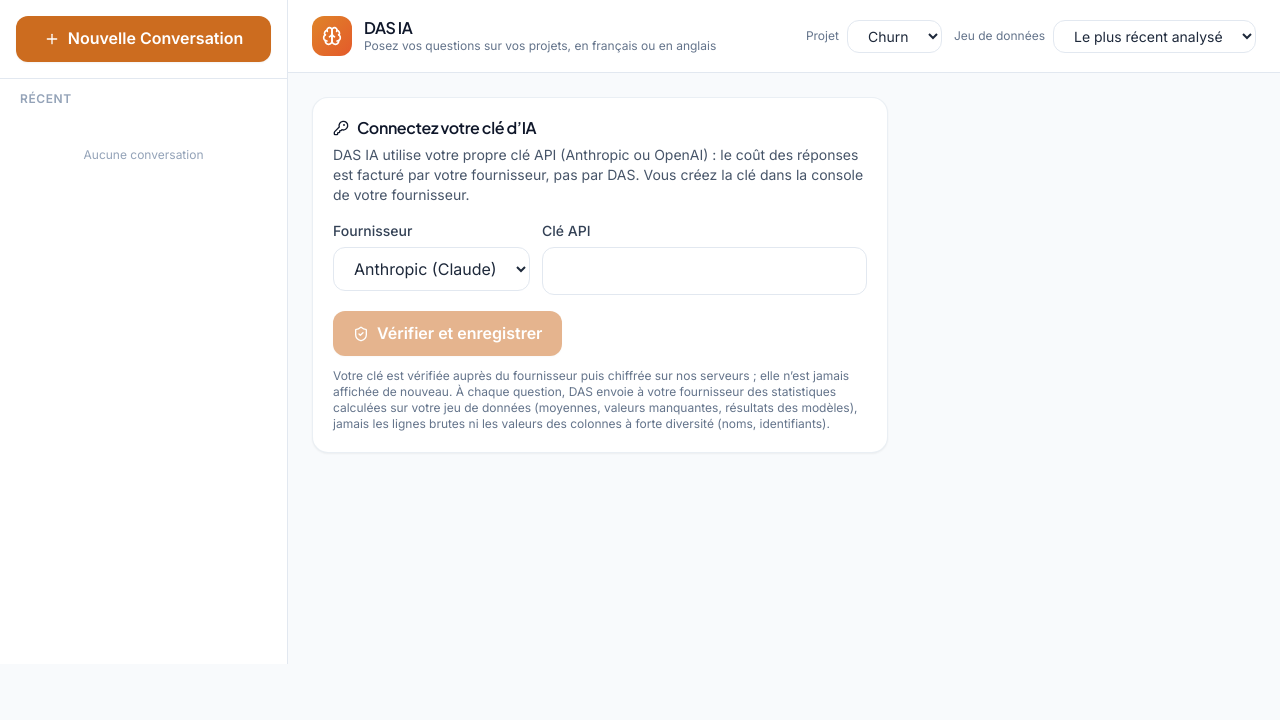
Test: AssistantPage › enregistre la clé saisie puis passe au chat, et efface le champ
Step 1. Type "sk-ant-abcdefghijklmnop-wxyz" into the password field labelled "Clé API" → point(704, 271), box [542,247,867,295]
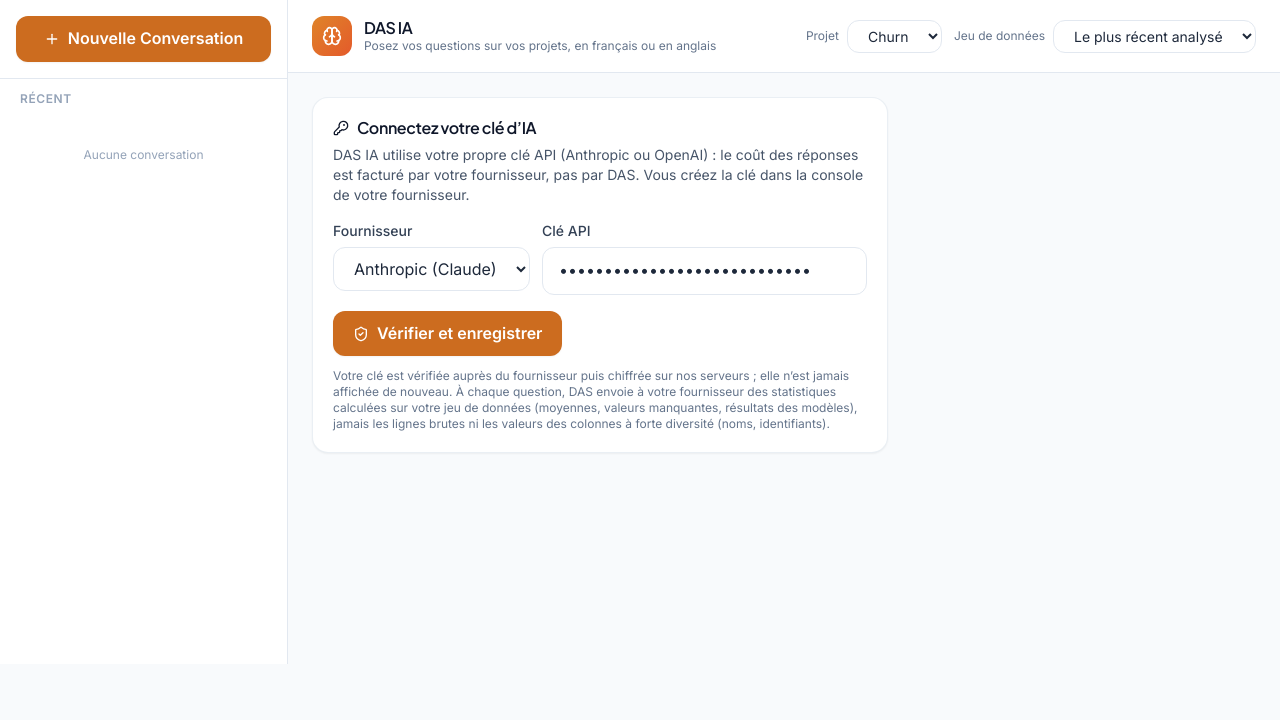
Step 2. Click the button "Vérifier et enregistrer" → point(448, 334), box [333,311,562,356]
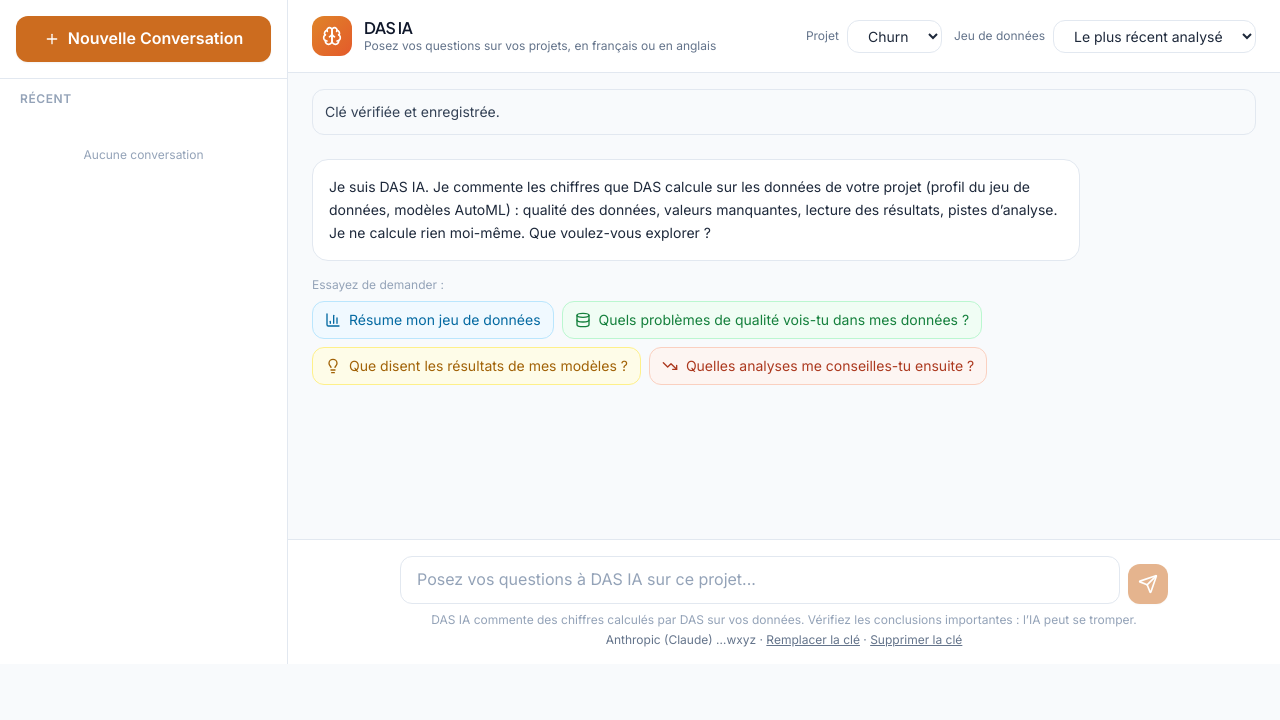
Result: the text box with placeholder "Posez vos questions à DAS IA sur ce projet..." is shown at [400,556,1120,604]
